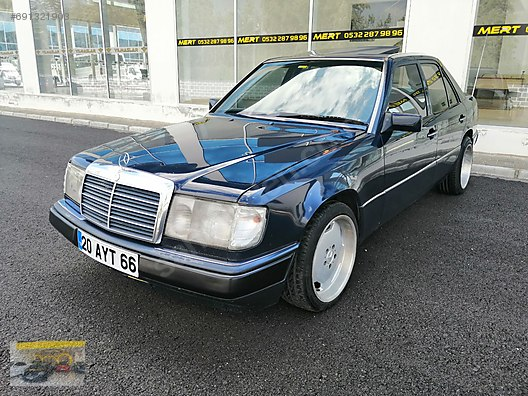mercedes: (45, 45, 485, 324)
